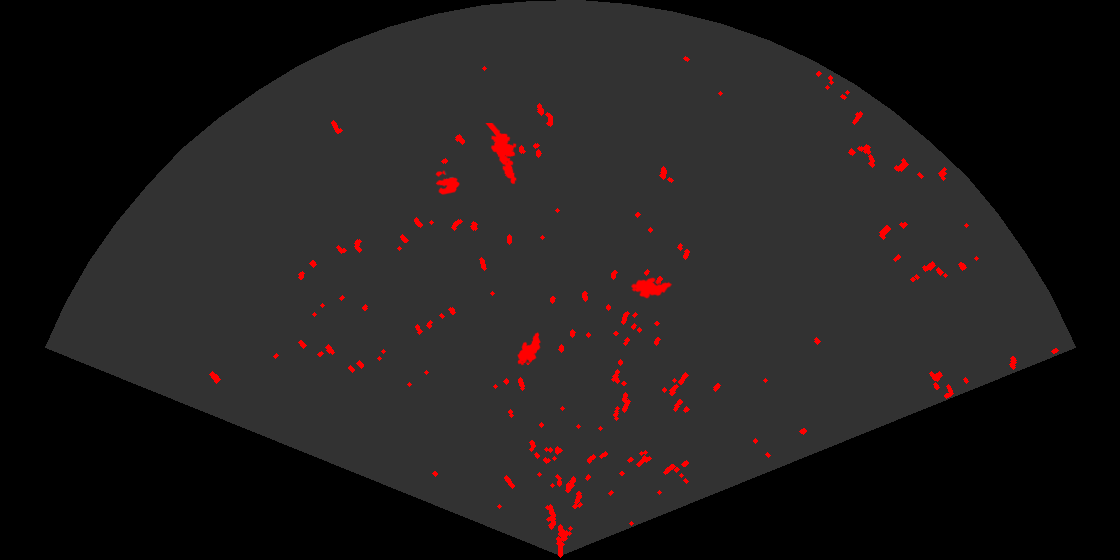AUV: (629, 276, 674, 300), (516, 330, 542, 367)
ball: (434, 169, 461, 196)
frogman: (484, 123, 518, 186)
